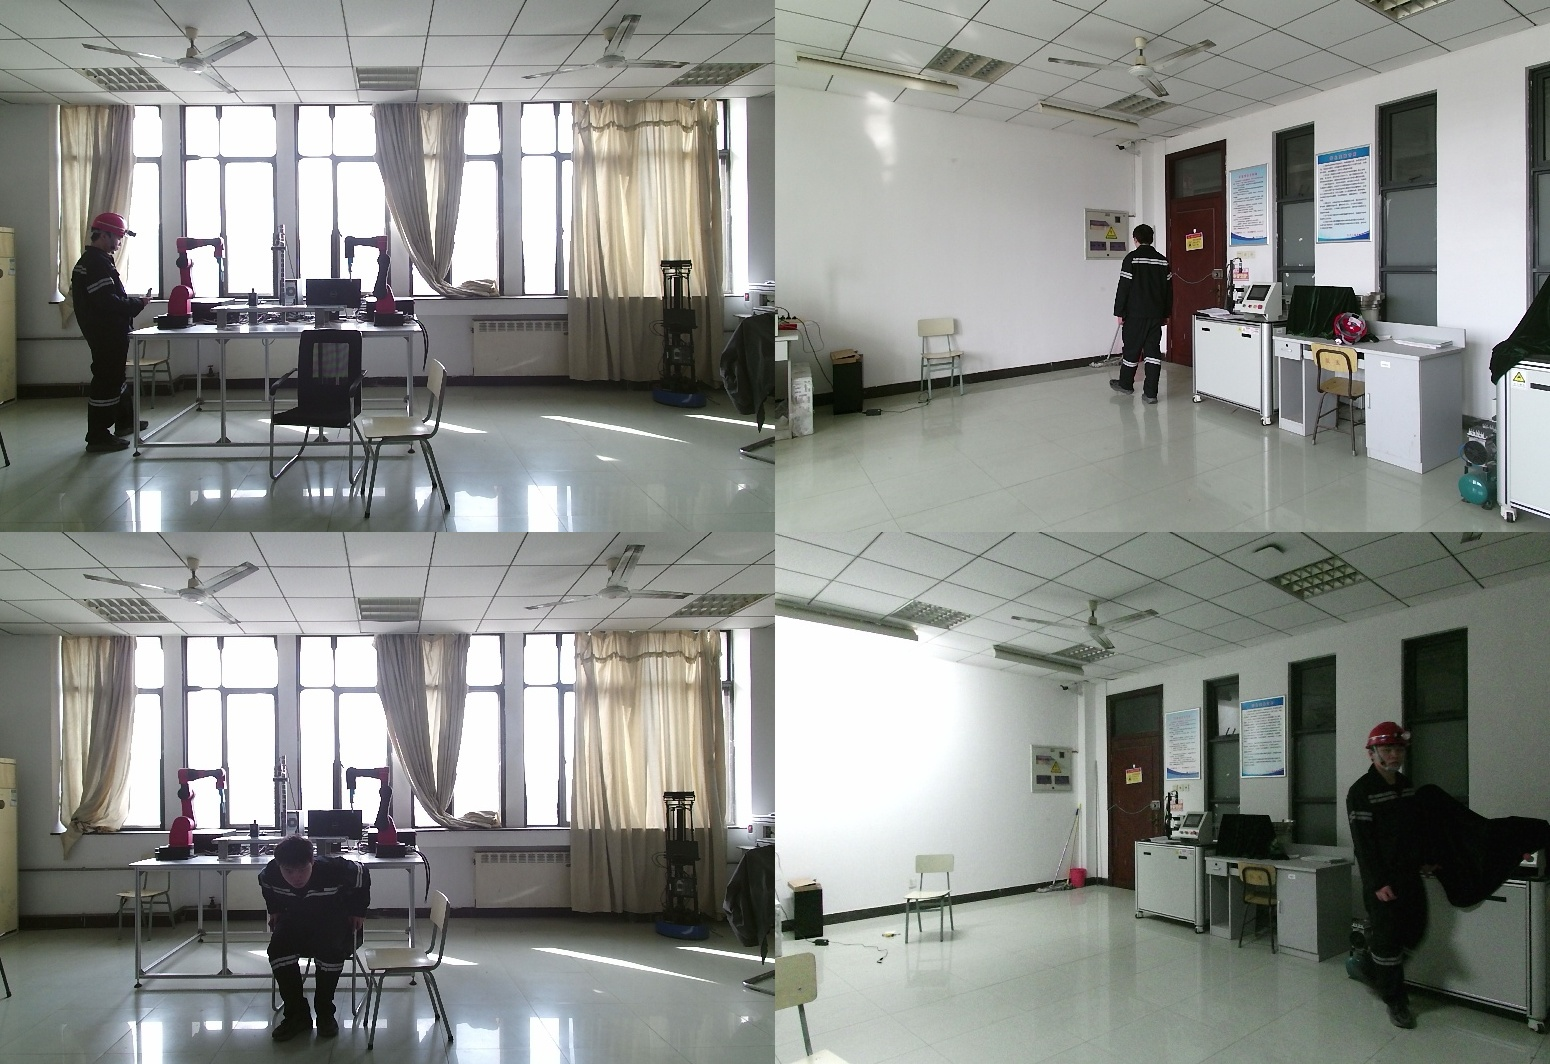person: (1330, 722, 1431, 1032), (259, 835, 380, 1039), (69, 211, 153, 452), (1111, 226, 1179, 410)
